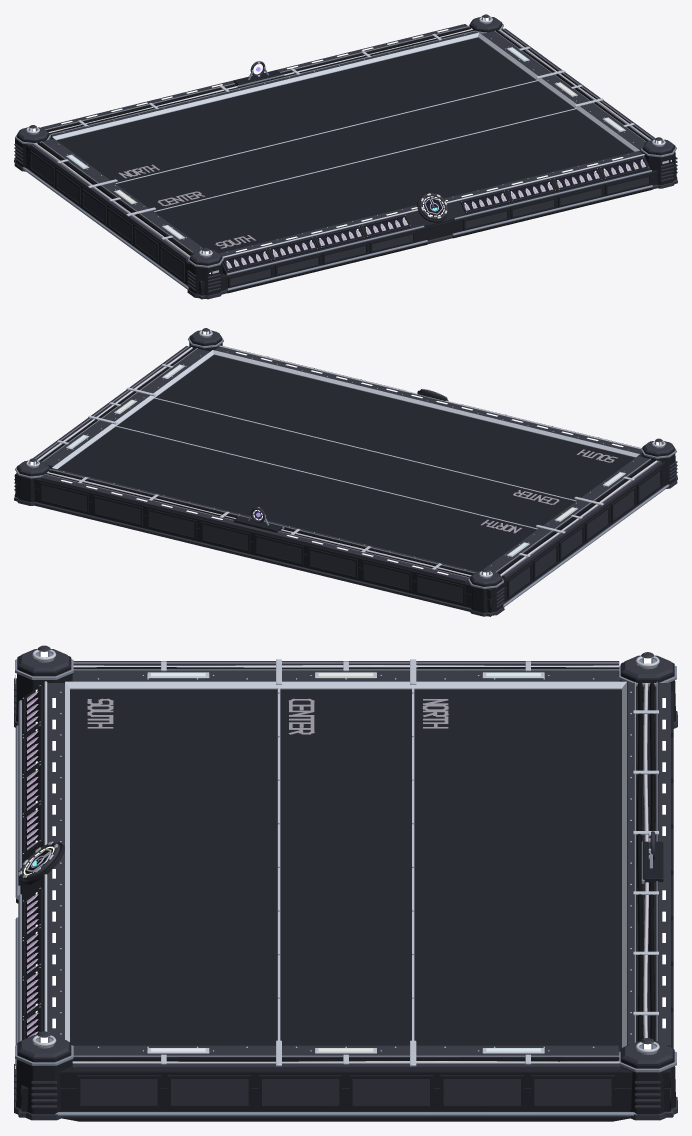
File: glass.glb
3 renders of one model, top to bottom at view 1: azimuth 30°, elevation 25°; view 2: azimuth 150°, elevation 25°; view 3: azimuth 270°, elevation 25°, orthographic. The views are drawn at different scales.
Visible parts, largest first — view 1: body_board_steel, body_board_panel, body_board_trim_bright, body_board_trim, body_board_rubber, body_board_enamel, body_board_ivory, body_glow_glass, body_accent_glow; view 2: body_board_steel, body_board_panel, body_board_trim_bright, body_board_trim, body_board_rubber, body_board_ivory, body_accent_glow; view 3: body_board_steel, body_board_panel, body_board_trim_bright, body_board_trim, body_board_rubber, body_board_ivory, body_board_enamel, body_glow_glass, body_accent_glow.
Boxes of the visible parts, bbox=[...] form: body_board_steel: bbox=[15, 19, 676, 295]; body_board_panel: bbox=[14, 16, 677, 299]; body_board_trim_bright: bbox=[52, 32, 648, 270]; body_board_trim: bbox=[15, 21, 676, 290]; body_board_rubber: bbox=[37, 27, 652, 293]; body_board_enamel: bbox=[225, 158, 646, 269]; body_board_ivory: bbox=[34, 29, 668, 273]; body_glow_glass: bbox=[226, 160, 646, 268]; body_accent_glow: bbox=[61, 29, 671, 273]; body_board_steel: bbox=[15, 332, 676, 612]; body_board_panel: bbox=[14, 330, 677, 616]; body_board_trim_bright: bbox=[52, 345, 640, 569]; body_board_trim: bbox=[15, 335, 676, 606]; body_board_rubber: bbox=[39, 347, 654, 577]; body_board_ivory: bbox=[37, 347, 657, 576]; body_accent_glow: bbox=[61, 352, 623, 575]; body_board_steel: bbox=[16, 656, 675, 1121]; body_board_panel: bbox=[14, 649, 677, 1120]; body_board_trim_bright: bbox=[18, 659, 658, 1066]; body_board_trim: bbox=[15, 659, 676, 1116]; body_board_rubber: bbox=[16, 667, 655, 1061]; body_board_ivory: bbox=[15, 665, 648, 1065]; body_board_enamel: bbox=[25, 689, 52, 1038]; body_glow_glass: bbox=[27, 691, 38, 1037]; body_accent_glow: bbox=[15, 673, 665, 1068].
Bounding box in the file's own units: 18.87 × 2.36 × 12.87.
